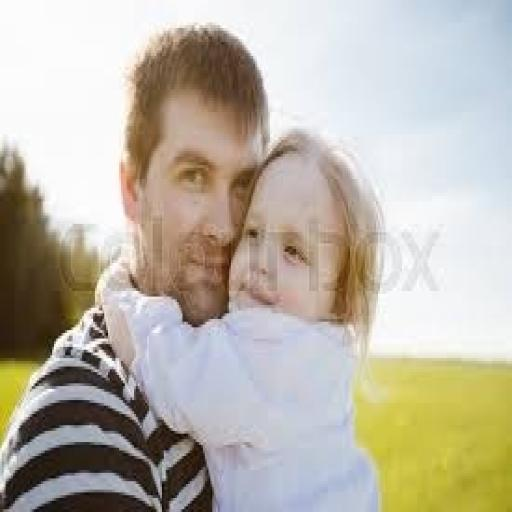hugging: (0, 19, 387, 509)
